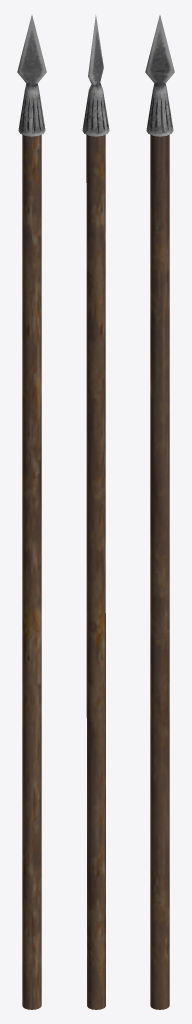
File: Spear_01.fbx
3 renders of one model, left to right at view 1: azimuth 90°, elevation 25°; view 2: azimuth 150°, elevation 25°; view 3: azimuth 270°, elevation 25°, orthographic.
Visible parts, largest first — view 1: Spear_01_LOD0; view 2: Spear_01_LOD0; view 3: Spear_01_LOD0.
Boxes of the visible parts, x1,y1,x2,y2 form: Spear_01_LOD0: (17, 15, 46, 1009); Spear_01_LOD0: (82, 15, 109, 1009); Spear_01_LOD0: (145, 15, 174, 1009).
Size of what is drawn, in the model's own units: 4.73 by 190 by 5.17.
